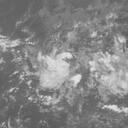cyclone: (6, 13, 125, 104)
